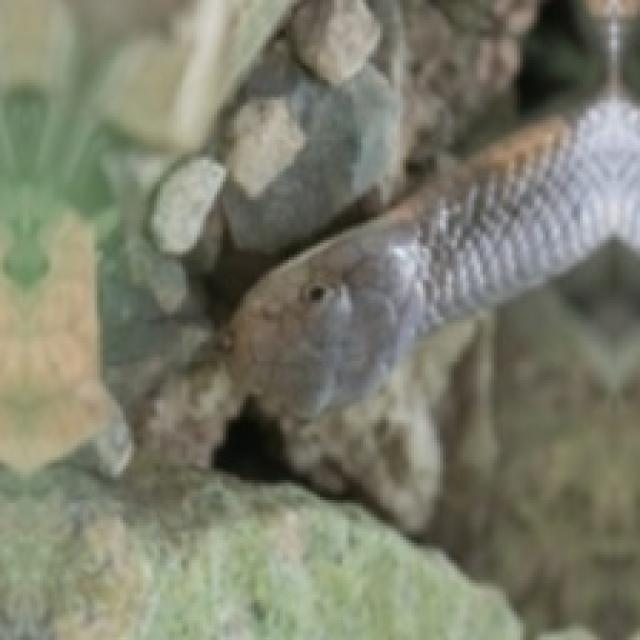king cobra: (229, 97, 637, 414)
